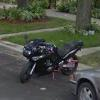Motorcycle: (11, 33, 86, 85)
